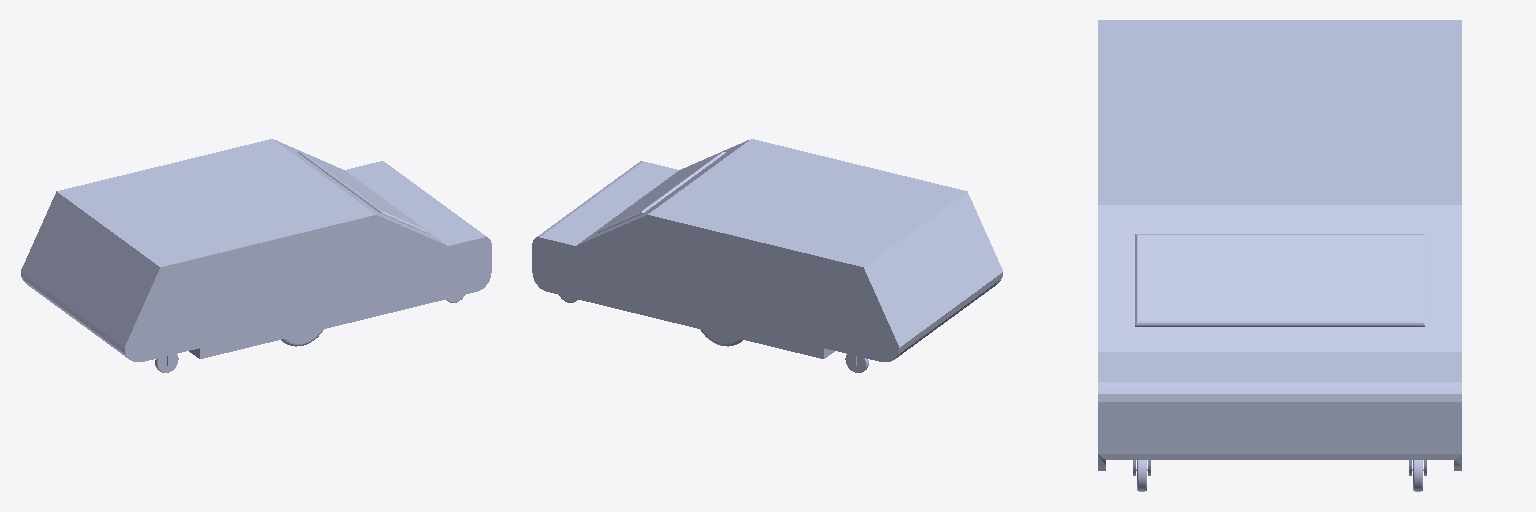
URDF robot description (agv5_varo):
<?xml version="1.0" encoding="utf-8"?>
<!-- This URDF was automatically created by SolidWorks to URDF Exporter! Originally created by [author] ([email redacted]) 
     Commit Version: 1.6.0-1-g15f4949  Build Version: 1.6.7594.29634
     For more information, please see http://wiki.ros.org/sw_urdf_exporter -->
<robot
  name="agv5_varo">
  <link
    name="base_link">
    <inertial>
      <origin
        xyz="0.115655071541137 3.66284780284332E-12 -0.152485599770737"
        rpy="0 0 0" />
      <mass
        value="15.0721208608483" />
      <inertia
        ixx="0.600714319391966"
        ixy="-1.06755631071889E-08"
        ixz="0.0704617108133668"
        iyy="1.47840362132378"
        iyz="1.10313437830623E-09"
        izz="1.81163408476871" />
    </inertial>
    <visual>
      <origin
        xyz="0 0 0"
        rpy="0 0 0" />
      <geometry>
        <mesh
          filename="package://agv5_varo/meshes/base_link.STL" />
      </geometry>
      <material
        name="">
        <color
          rgba="0.792156862745098 0.819607843137255 0.933333333333333 1" />
      </material>
    </visual>
    <collision>
      <origin
        xyz="0 0 0"
        rpy="0 0 0" />
      <geometry>
        <mesh
          filename="package://agv5_varo/meshes/base_link.STL" />
      </geometry>
    </collision>
  </link>
  <link
    name="Left_Link">
    <inertial>
      <origin
        xyz="6.89226453687297E-13 -0.0166023388404412 3.94517751800549E-13"
        rpy="0 0 0" />
      <mass
        value="0.52936994072617" />
      <inertia
        ixx="0.000772904303756457"
        ixy="-8.70667323830793E-20"
        ixz="-3.67109231972611E-34"
        iyy="0.0013878620871552"
        iyz="6.44417065836E-18"
        izz="0.000772904303756456" />
    </inertial>
    <visual>
      <origin
        xyz="0 0 0"
        rpy="0 0 0" />
      <geometry>
        <mesh
          filename="package://agv5_varo/meshes/Left_Link.STL" />
      </geometry>
      <material
        name="">
        <color
          rgba="0.792156862745098 0.819607843137255 0.933333333333333 1" />
      </material>
    </visual>
    <collision>
      <origin
        xyz="0 0 0"
        rpy="0 0 0" />
      <geometry>
        <mesh
          filename="package://agv5_varo/meshes/Left_Link.STL" />
      </geometry>
    </collision>
  </link>
  <joint
    name="Left_Joint"
    type="continuous">
    <origin
      xyz="0.110000000000006 0.229999999999991 -0.239999999999994"
      rpy="0 0 0" />
    <parent
      link="base_link" />
    <child
      link="Left_Link" />
    <axis
      xyz="0 1 0" />
  </joint>
  <link
    name="Right_Link">
    <inertial>
      <origin
        xyz="3.79141162909491E-13 0.0166023388387576 3.54161144855425E-14"
        rpy="0 0 0" />
      <mass
        value="0.529369940726169" />
      <inertia
        ixx="0.000772904303756456"
        ixy="8.70716048896513E-20"
        ixz="1.91778702835882E-34"
        iyy="0.0013878620871552"
        iyz="2.16984719145409E-18"
        izz="0.000772904303756456" />
    </inertial>
    <visual>
      <origin
        xyz="0 0 0"
        rpy="0 0 0" />
      <geometry>
        <mesh
          filename="package://agv5_varo/meshes/Right_Link.STL" />
      </geometry>
      <material
        name="">
        <color
          rgba="0.792156862745098 0.819607843137255 0.933333333333333 1" />
      </material>
    </visual>
    <collision>
      <origin
        xyz="0 0 0"
        rpy="0 0 0" />
      <geometry>
        <mesh
          filename="package://agv5_varo/meshes/Right_Link.STL" />
      </geometry>
    </collision>
  </link>
  <joint
    name="Right_Joint"
    type="continuous">
    <origin
      xyz="0.110000000000006 -0.230000000000006 -0.239999999999996"
      rpy="0 0 0" />
    <parent
      link="base_link" />
    <child
      link="Right_Link" />
    <axis
      xyz="0 1 0" />
  </joint>
  <link
    name="LFcon_Link">
    <inertial>
      <origin
        xyz="-0.00121269193413109 7.66053886991358E-15 -0.000415480513229205"
        rpy="0 0 0" />
      <mass
        value="0.0257521038737953" />
      <inertia
        ixx="8.61473826778215E-06"
        ixy="5.73714247890305E-21"
        ixz="-5.64302073523239E-07"
        iyy="8.11210346787567E-06"
        iyz="-2.30301065110909E-21"
        izz="4.80769500241318E-06" />
    </inertial>
    <visual>
      <origin
        xyz="0 0 0"
        rpy="0 0 0" />
      <geometry>
        <mesh
          filename="package://agv5_varo/meshes/LFcon_Link.STL" />
      </geometry>
      <material
        name="">
        <color
          rgba="0.792156862745098 0.819607843137255 0.933333333333333 1" />
      </material>
    </visual>
    <collision>
      <origin
        xyz="0 0 0"
        rpy="0 0 0" />
      <geometry>
        <mesh
          filename="package://agv5_varo/meshes/LFcon_Link.STL" />
      </geometry>
    </collision>
  </link>
  <joint
    name="LFcon_Joint"
    type="continuous">
    <origin
      xyz="0.560363870782178 0.190000000000007 -0.244999999999998"
      rpy="0 0 0" />
    <parent
      link="base_link" />
    <child
      link="LFcon_Link" />
    <axis
      xyz="0 0 1" />
  </joint>
  <link
    name="LF_Link">
    <inertial>
      <origin
        xyz="7.59392548843607E-13 -0.00650000000122719 6.66688926287407E-14"
        rpy="0 0 0" />
      <mass
        value="0.0364111988779923" />
      <inertia
        ixx="8.56927811367131E-06"
        ixy="-3.41691763893474E-25"
        ixz="2.71591299799106E-37"
        iyy="1.61103246905048E-05"
        iyz="2.54747297031203E-20"
        izz="8.56927811367131E-06" />
    </inertial>
    <visual>
      <origin
        xyz="0 0 0"
        rpy="0 0 0" />
      <geometry>
        <mesh
          filename="package://agv5_varo/meshes/LF_Link.STL" />
      </geometry>
      <material
        name="">
        <color
          rgba="0.792156862745098 0.819607843137255 0.933333333333333 1" />
      </material>
    </visual>
    <collision>
      <origin
        xyz="0 0 0"
        rpy="0 0 0" />
      <geometry>
        <mesh
          filename="package://agv5_varo/meshes/LF_Link.STL" />
      </geometry>
    </collision>
  </link>
  <joint
    name="LF_Joint"
    type="continuous">
    <origin
      xyz="-0.00786387078217188 0.00649999999998607 -0.0400000000000009"
      rpy="0 0 0" />
    <parent
      link="LFcon_Link" />
    <child
      link="LF_Link" />
    <axis
      xyz="0 1 0" />
  </joint>
  <link
    name="RFcon_Link">
    <inertial>
      <origin
        xyz="-0.00121269193417084 6.7168492989822E-15 -0.000415480513104305"
        rpy="0 0 0" />
      <mass
        value="0.0257521038737953" />
      <inertia
        ixx="8.61473826778217E-06"
        ixy="5.33362144638911E-21"
        ixz="-5.6430207352324E-07"
        iyy="8.11210346787569E-06"
        iyz="-1.85788997095708E-21"
        izz="4.80769500241318E-06" />
    </inertial>
    <visual>
      <origin
        xyz="0 0 0"
        rpy="0 0 0" />
      <geometry>
        <mesh
          filename="package://agv5_varo/meshes/RFcon_Link.STL" />
      </geometry>
      <material
        name="">
        <color
          rgba="0.792156862745098 0.819607843137255 0.933333333333333 1" />
      </material>
    </visual>
    <collision>
      <origin
        xyz="0 0 0"
        rpy="0 0 0" />
      <geometry>
        <mesh
          filename="package://agv5_varo/meshes/RFcon_Link.STL" />
      </geometry>
    </collision>
  </link>
  <joint
    name="RFcon_Joint"
    type="continuous">
    <origin
      xyz="0.560363870782182 -0.189999999999993 -0.244999999999998"
      rpy="0 0 0" />
    <parent
      link="base_link" />
    <child
      link="RFcon_Link" />
    <axis
      xyz="0 0 1" />
  </joint>
  <link
    name="RF_Link">
    <inertial>
      <origin
        xyz="3.59712259978551E-13 0.00649999999876644 7.55506768257419E-14"
        rpy="0 0 0" />
      <mass
        value="0.0364111988779923" />
      <inertia
        ixx="8.56927811367131E-06"
        ixy="1.67531682123137E-26"
        ixz="1.40097792434919E-38"
        iyy="1.61103246905048E-05"
        iyz="2.54747297031203E-20"
        izz="8.56927811367131E-06" />
    </inertial>
    <visual>
      <origin
        xyz="0 0 0"
        rpy="0 0 0" />
      <geometry>
        <mesh
          filename="package://agv5_varo/meshes/RF_Link.STL" />
      </geometry>
      <material
        name="">
        <color
          rgba="0.792156862745098 0.819607843137255 0.933333333333333 1" />
      </material>
    </visual>
    <collision>
      <origin
        xyz="0 0 0"
        rpy="0 0 0" />
      <geometry>
        <mesh
          filename="package://agv5_varo/meshes/RF_Link.STL" />
      </geometry>
    </collision>
  </link>
  <joint
    name="RF_Joint"
    type="continuous">
    <origin
      xyz="-0.00786387078217587 -0.00650000000001394 -0.0400000000000023"
      rpy="0 0 0" />
    <parent
      link="RFcon_Link" />
    <child
      link="RF_Link" />
    <axis
      xyz="0 1 0" />
  </joint>
  <link
    name="LBcon_Link">
    <inertial>
      <origin
        xyz="-0.00121269193412316 9.76996261670138E-14 -0.000415480513484057"
        rpy="0 0 0" />
      <mass
        value="0.0257521038737953" />
      <inertia
        ixx="8.61473826778219E-06"
        ixy="4.64793643123521E-21"
        ixz="-5.64302073523248E-07"
        iyy="8.11210346787571E-06"
        iyz="-9.37517966136664E-21"
        izz="4.80769500241318E-06" />
    </inertial>
    <visual>
      <origin
        xyz="0 0 0"
        rpy="0 0 0" />
      <geometry>
        <mesh
          filename="package://agv5_varo/meshes/LBcon_Link.STL" />
      </geometry>
      <material
        name="">
        <color
          rgba="0.792156862745098 0.819607843137255 0.933333333333333 1" />
      </material>
    </visual>
    <collision>
      <origin
        xyz="0 0 0"
        rpy="0 0 0" />
      <geometry>
        <mesh
          filename="package://agv5_varo/meshes/LBcon_Link.STL" />
      </geometry>
    </collision>
  </link>
  <joint
    name="LBcon_Joint"
    type="continuous">
    <origin
      xyz="-0.239636129217822 0.189999999999999 -0.245000000000001"
      rpy="0 0 0" />
    <parent
      link="base_link" />
    <child
      link="LBcon_Link" />
    <axis
      xyz="0 0 1" />
  </joint>
  <link
    name="LB_Link">
    <inertial>
      <origin
        xyz="7.68218821889377E-13 -0.00650000000038042 1.70974345792274E-14"
        rpy="0 0 0" />
      <mass
        value="0.0364111988779923" />
      <inertia
        ixx="8.56927811367131E-06"
        ixy="3.75198100318771E-25"
        ixz="2.71591299799106E-37"
        iyy="1.61103246905048E-05"
        iyz="2.54747297031203E-20"
        izz="8.56927811367131E-06" />
    </inertial>
    <visual>
      <origin
        xyz="0 0 0"
        rpy="0 0 0" />
      <geometry>
        <mesh
          filename="package://agv5_varo/meshes/LB_Link.STL" />
      </geometry>
      <material
        name="">
        <color
          rgba="0.792156862745098 0.819607843137255 0.933333333333333 1" />
      </material>
    </visual>
    <collision>
      <origin
        xyz="0 0 0"
        rpy="0 0 0" />
      <geometry>
        <mesh
          filename="package://agv5_varo/meshes/LB_Link.STL" />
      </geometry>
    </collision>
  </link>
  <joint
    name="LB_Joint"
    type="continuous">
    <origin
      xyz="-0.00786387078217188 0.00649999999999451 -0.0399999999999985"
      rpy="0 0 0" />
    <parent
      link="LBcon_Link" />
    <child
      link="LB_Link" />
    <axis
      xyz="0 -1 0" />
  </joint>
  <link
    name="RBcon_Link">
    <inertial>
      <origin
        xyz="-0.00121269193416546 9.51461132103759E-14 -0.000415480513359157"
        rpy="0 0 0" />
      <mass
        value="0.0257521038737953" />
      <inertia
        ixx="8.61473826778216E-06"
        ixy="3.6436381704902E-21"
        ixz="-5.64302073523249E-07"
        iyy="8.11210346787568E-06"
        iyz="-1.09936104063131E-20"
        izz="4.80769500241318E-06" />
    </inertial>
    <visual>
      <origin
        xyz="0 0 0"
        rpy="0 0 0" />
      <geometry>
        <mesh
          filename="package://agv5_varo/meshes/RBcon_Link.STL" />
      </geometry>
      <material
        name="">
        <color
          rgba="0.792156862745098 0.819607843137255 0.933333333333333 1" />
      </material>
    </visual>
    <collision>
      <origin
        xyz="0 0 0"
        rpy="0 0 0" />
      <geometry>
        <mesh
          filename="package://agv5_varo/meshes/RBcon_Link.STL" />
      </geometry>
    </collision>
  </link>
  <joint
    name="RBcon_Joint"
    type="continuous">
    <origin
      xyz="-0.239636129217818 -0.190000000000001 -0.245000000000001"
      rpy="0 0 0" />
    <parent
      link="base_link" />
    <child
      link="RBcon_Link" />
    <axis
      xyz="0 0 1" />
  </joint>
  <link
    name="RB_Link">
    <inertial>
      <origin
        xyz="3.65096841647983E-13 0.00649999999961287 2.55351295663786E-14"
        rpy="0 0 0" />
      <mass
        value="0.0364111988779923" />
      <inertia
        ixx="8.56927811367131E-06"
        ixy="1.67531682123137E-26"
        ixz="2.71591299799105E-37"
        iyy="1.61103246905048E-05"
        iyz="2.54747297031203E-20"
        izz="8.56927811367131E-06" />
    </inertial>
    <visual>
      <origin
        xyz="0 0 0"
        rpy="0 0 0" />
      <geometry>
        <mesh
          filename="package://agv5_varo/meshes/RB_Link.STL" />
      </geometry>
      <material
        name="">
        <color
          rgba="0.792156862745098 0.819607843137255 0.933333333333333 1" />
      </material>
    </visual>
    <collision>
      <origin
        xyz="0 0 0"
        rpy="0 0 0" />
      <geometry>
        <mesh
          filename="package://agv5_varo/meshes/RB_Link.STL" />
      </geometry>
    </collision>
  </link>
  <joint
    name="RB_Joint"
    type="continuous">
    <origin
      xyz="-0.00786387078217587 -0.00650000000000545 -0.0399999999999999"
      rpy="0 0 0" />
    <parent
      link="RBcon_Link" />
    <child
      link="RB_Link" />
    <axis
      xyz="0 -1 0" />
  </joint>
  <gazebo>
    <plugin name="controller"   filename="libgazebo_ros_diff_drive.so">
        <leftJoint>Left_Joint</leftJoint>
        <rightJoint>Right_Joint</rightJoint>
        <legacyMode>false</legacyMode>
        <robotBaseFrame>base_link</robotBaseFrame>
        <wheelSeparation>0.4</wheelSeparation>
        <wheelDiameter>0.15</wheelDiameter>
        <publishWheelJointState>true</publishWheelJointState>
    </plugin>
    
</gazebo>
   <gazebo>
    <plugin name="joint_state_publisher"
            filename="libgazebo_ros_joint_state_publisher.so">
        <jointName>LF_Joint, RF_Joint, LB_Joint, RB_Joint, RFcon_Joint, RBcon_Joint, LFcon_Joint, LBcon_Joint</jointName>
    </plugin>
</gazebo>
</robot>

--- Facts derived from the render (not from the file) ---
3 views of the same robot in one strip: view 1: azimuth 30°, elevation 25°; view 2: azimuth 150°, elevation 25°; view 3: azimuth 270°, elevation 25° (orthographic).
Model agv5_varo with 11 links and 10 joints (10 continuous), rooted at base_link, posed all joints at 0.
Links seen in each view (by area): view 1: base_link; view 2: base_link; view 3: base_link.
Link boxes in pixels (<box>): base_link: <box>21,139,491,361</box>; base_link: <box>532,139,1002,361</box>; base_link: <box>1098,20,1461,470</box>.
Size in the robot's own frame: 1.02 by 0.5 by 0.315 metres.
Meshes: 11 distinct files referenced, 11 mesh visuals loaded (11 binary STL).